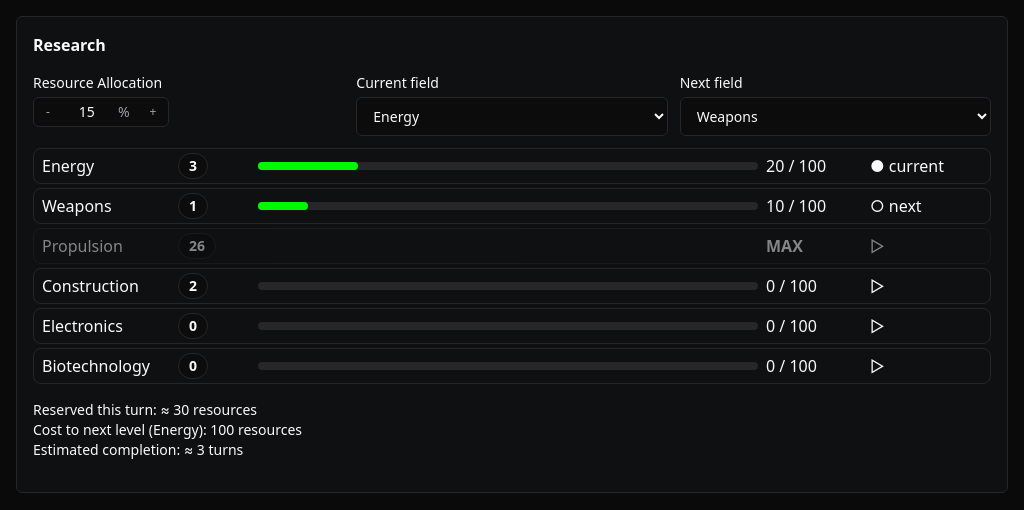
Scenario: ResearchWorkspace › increments and decrements allocation with visible stepper buttons
What coordinates should you click on to do the following:
click the button named "Increase allocation"
I would click on:
 (153, 112)
Its box is [138,100,168,124].
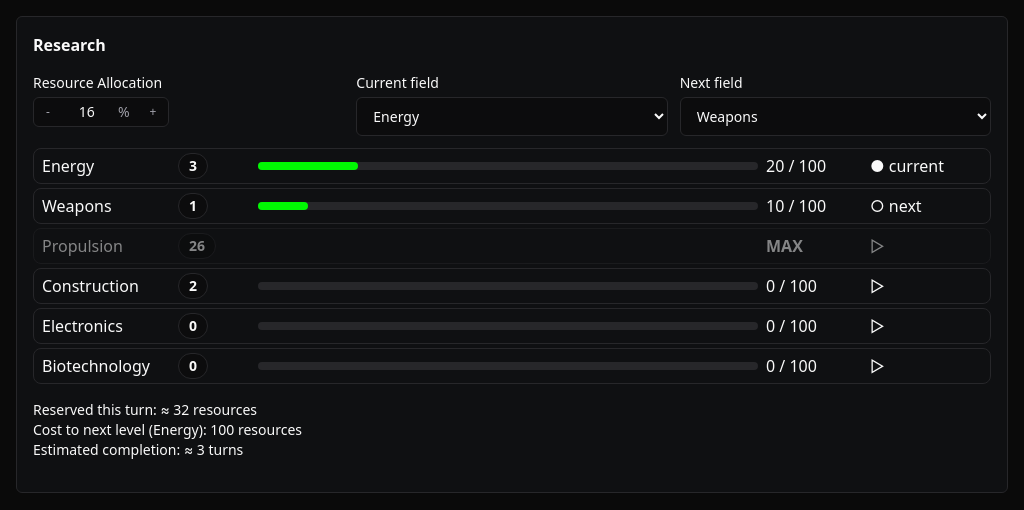
Expected: the number field named "Allocation percent" holds "16", [62,98,118,126]
What coordinates should you click on to do the following:
click the button named "Decrease allocation"
I would click on:
 (48, 112)
Its box is [34,100,62,124].
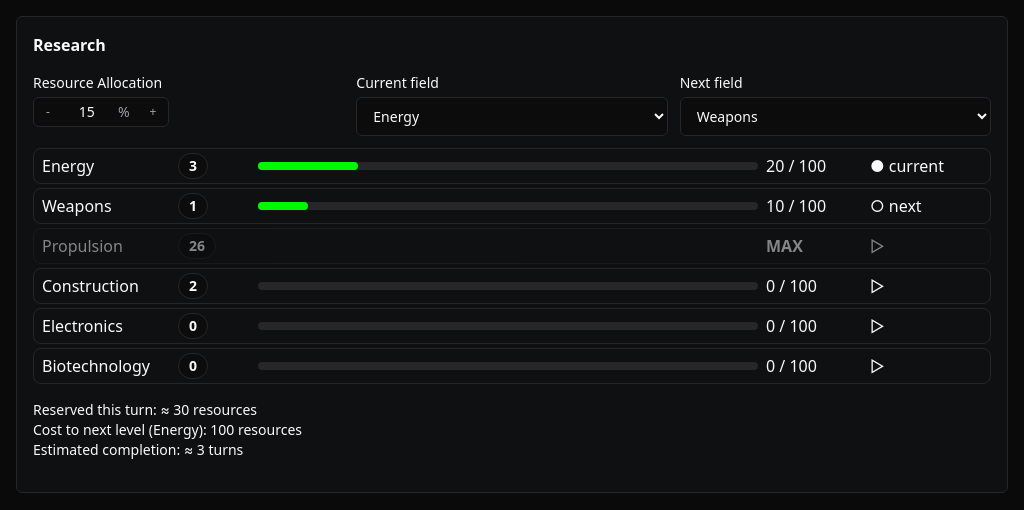
Expected: the number field named "Allocation percent" holds "15", [62,98,118,126]
